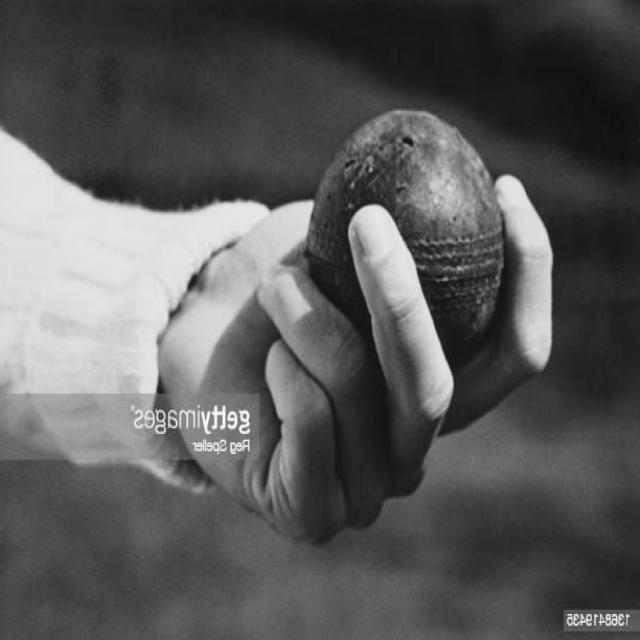ball: (304, 110, 503, 348)
